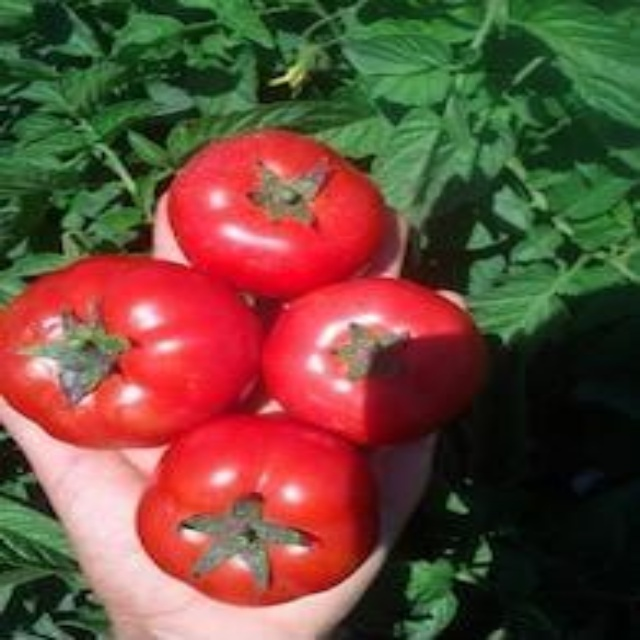tomato: (8, 260, 257, 444), (161, 417, 384, 587), (165, 125, 376, 301), (273, 292, 493, 433)
